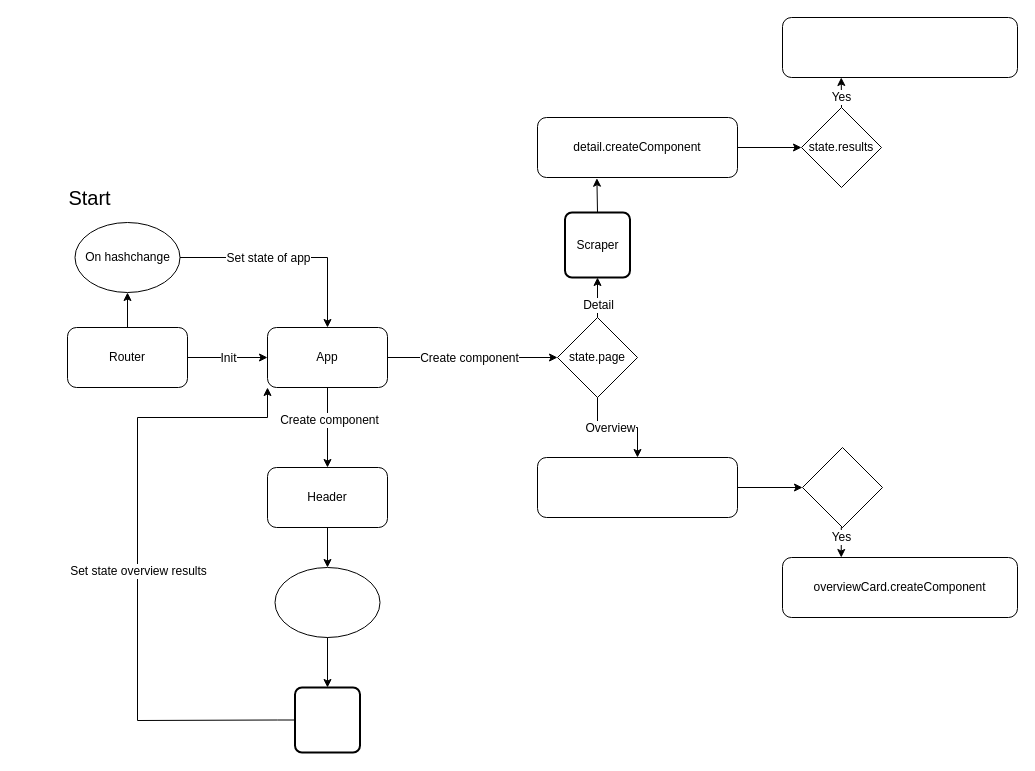
The diagram is 1035 pixels wide and 771 high, and some of its shapes have lost their labels. Each missing label, with the box of its shape:
API: (294, 686, 360, 753)
detailCard.createComponent: (782, 16, 1018, 78)
On searchSubmit: (274, 566, 380, 638)
overview.createComponent: (536, 456, 738, 518)
sate.results: (802, 446, 882, 528)
